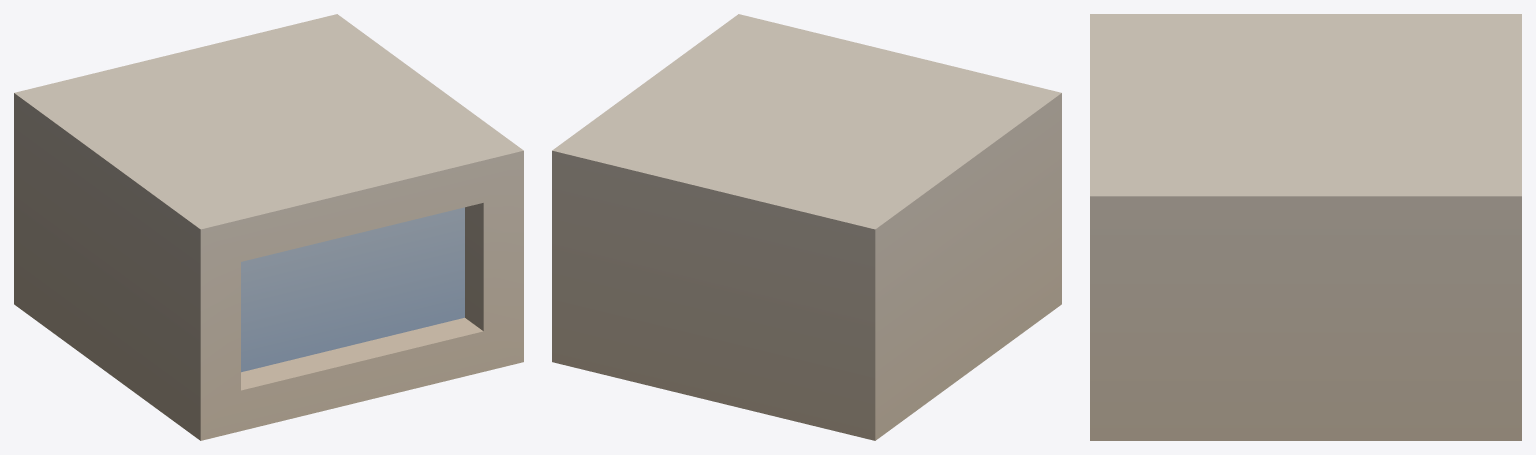
Rendered from building-window-wide.glb.
3 views of the same model, side by side, from view 1: azimuth 30°, elevation 25°; view 2: azimuth 150°, elevation 25°; view 3: azimuth 270°, elevation 25° (orthographic). The views are drawn at different scales.
Visible parts, largest first — view 1: building-window-wide; view 2: building-window-wide; view 3: building-window-wide.
Boxes of the visible parts, <box> form: building-window-wide: <box>14,14,523,440</box>; building-window-wide: <box>552,14,1061,440</box>; building-window-wide: <box>1090,14,1521,440</box>.
Bounding box in the file's own units: 1 × 0.625 × 1.
